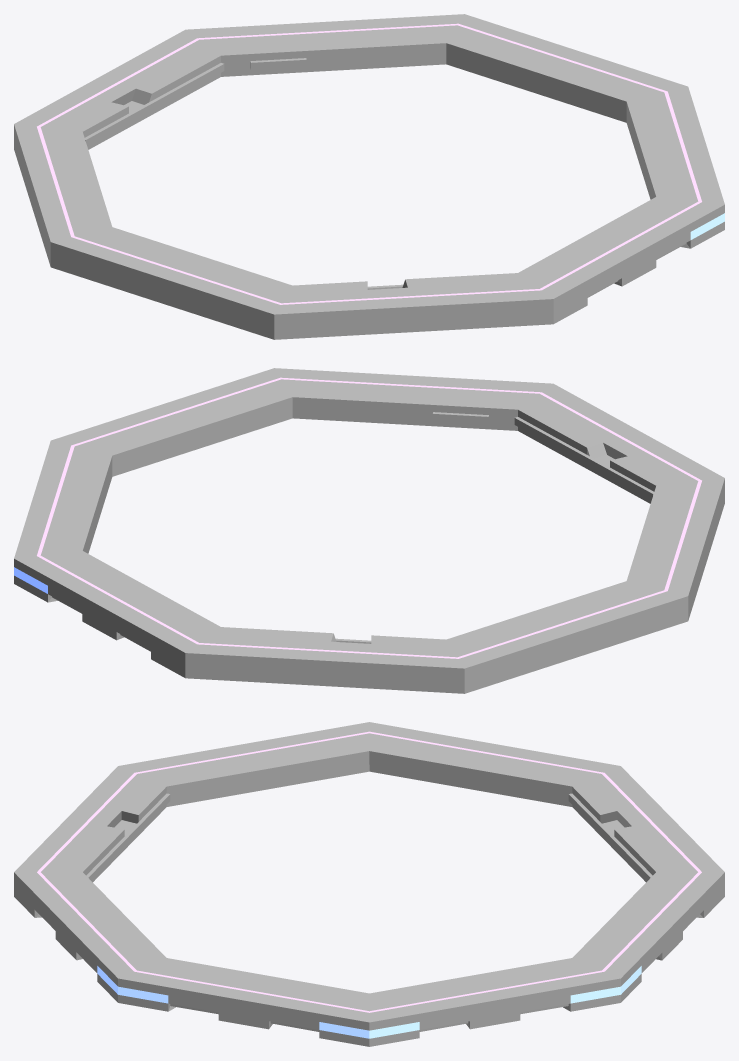
File: FUT0410044.fbx
The picture shows the model from 3 angles, top to bottom: view 1: azimuth 30°, elevation 25°; view 2: azimuth 150°, elevation 25°; view 3: azimuth 270°, elevation 25°; orthographic projection. The views are drawn at different scales.
Parts seen in each view (by area): view 1: smFUT0410044; view 2: smFUT0410044; view 3: smFUT0410044.
Part boxes in pixels (bbox=[...]): smFUT0410044: bbox=[14, 14, 724, 339]; smFUT0410044: bbox=[14, 368, 724, 693]; smFUT0410044: bbox=[14, 722, 724, 1046].
Size of the model in its own units: 2195 by 83.31 by 2195.
